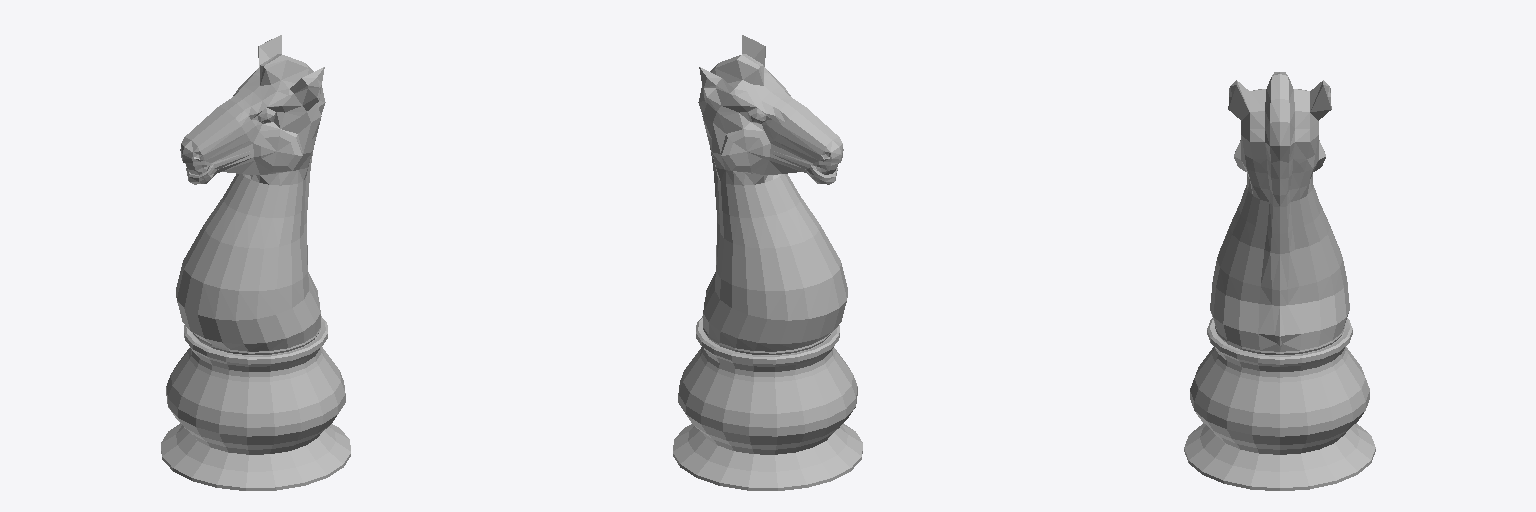
3 views of the same model, side by side, from view 1: azimuth 30°, elevation 25°; view 2: azimuth 150°, elevation 25°; view 3: azimuth 270°, elevation 25° (orthographic).
Parts seen in each view (by area): view 1: White_knight1_White_knight1Shape; view 2: White_knight1_White_knight1Shape; view 3: White_knight1_White_knight1Shape.
Boxes of the visible parts, <box> form: White_knight1_White_knight1Shape: <box>161,35,350,490</box>; White_knight1_White_knight1Shape: <box>673,35,862,490</box>; White_knight1_White_knight1Shape: <box>1184,72,1375,490</box>.
Bounding box in the file's own units: 1 × 2.25 × 1.
1 materials, 1 textured.